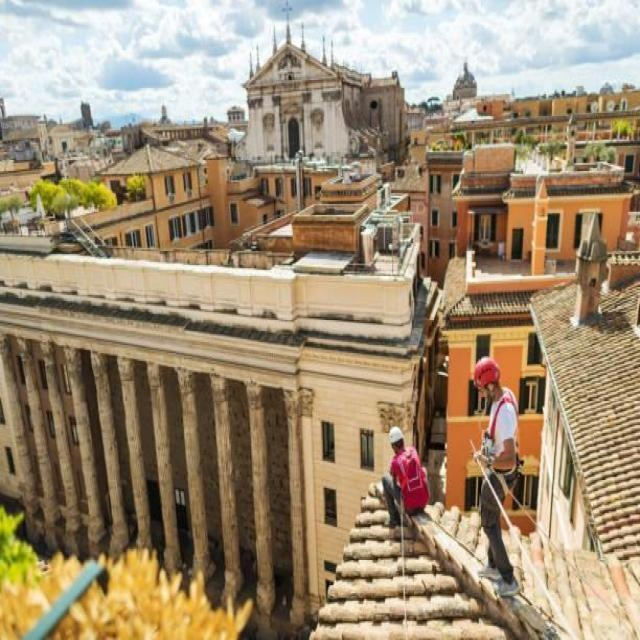Arnes_seguridad: (486, 386, 520, 500), (394, 445, 428, 514)
